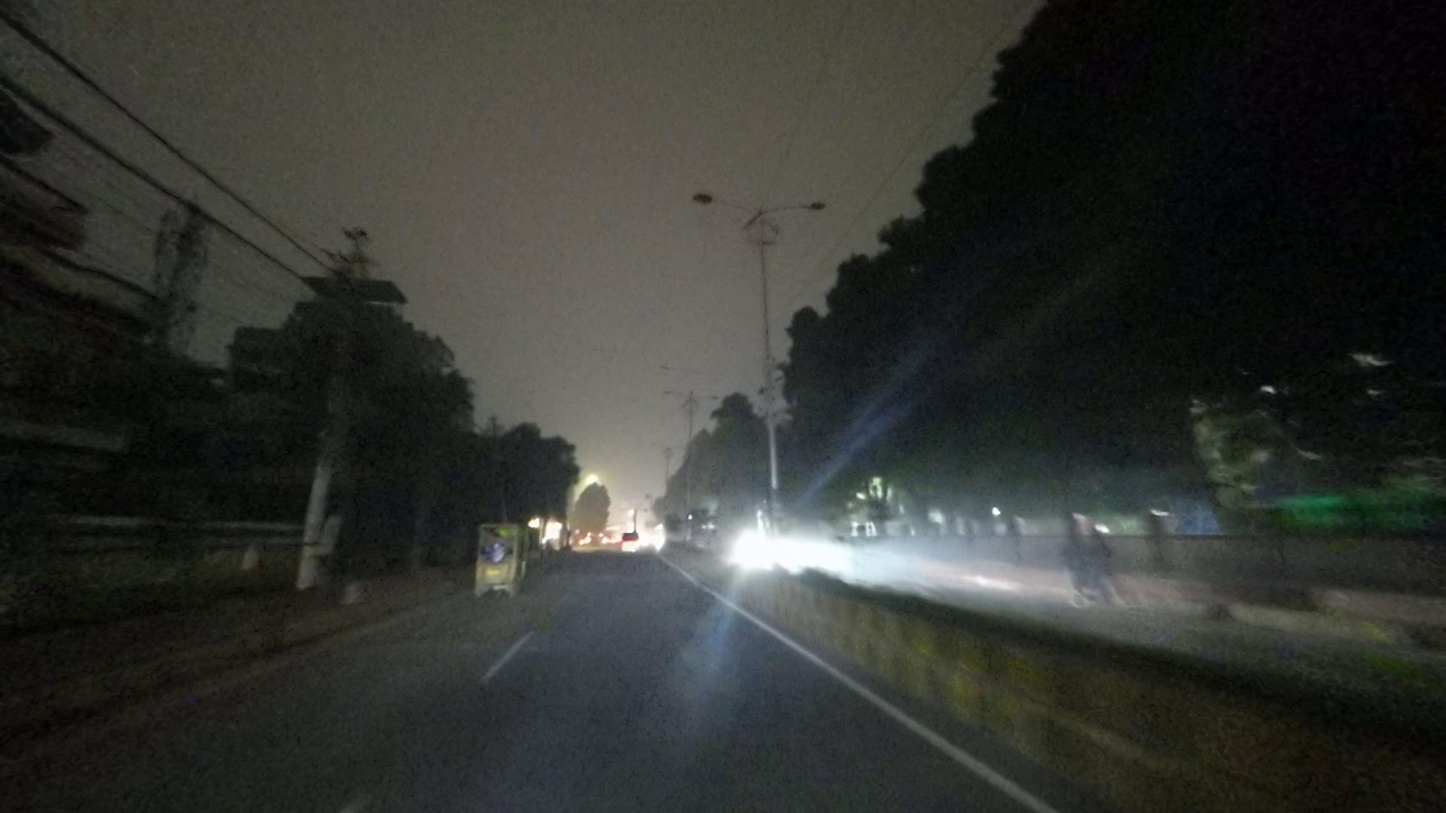streetlight: (689, 185, 752, 215), (761, 200, 829, 215)
